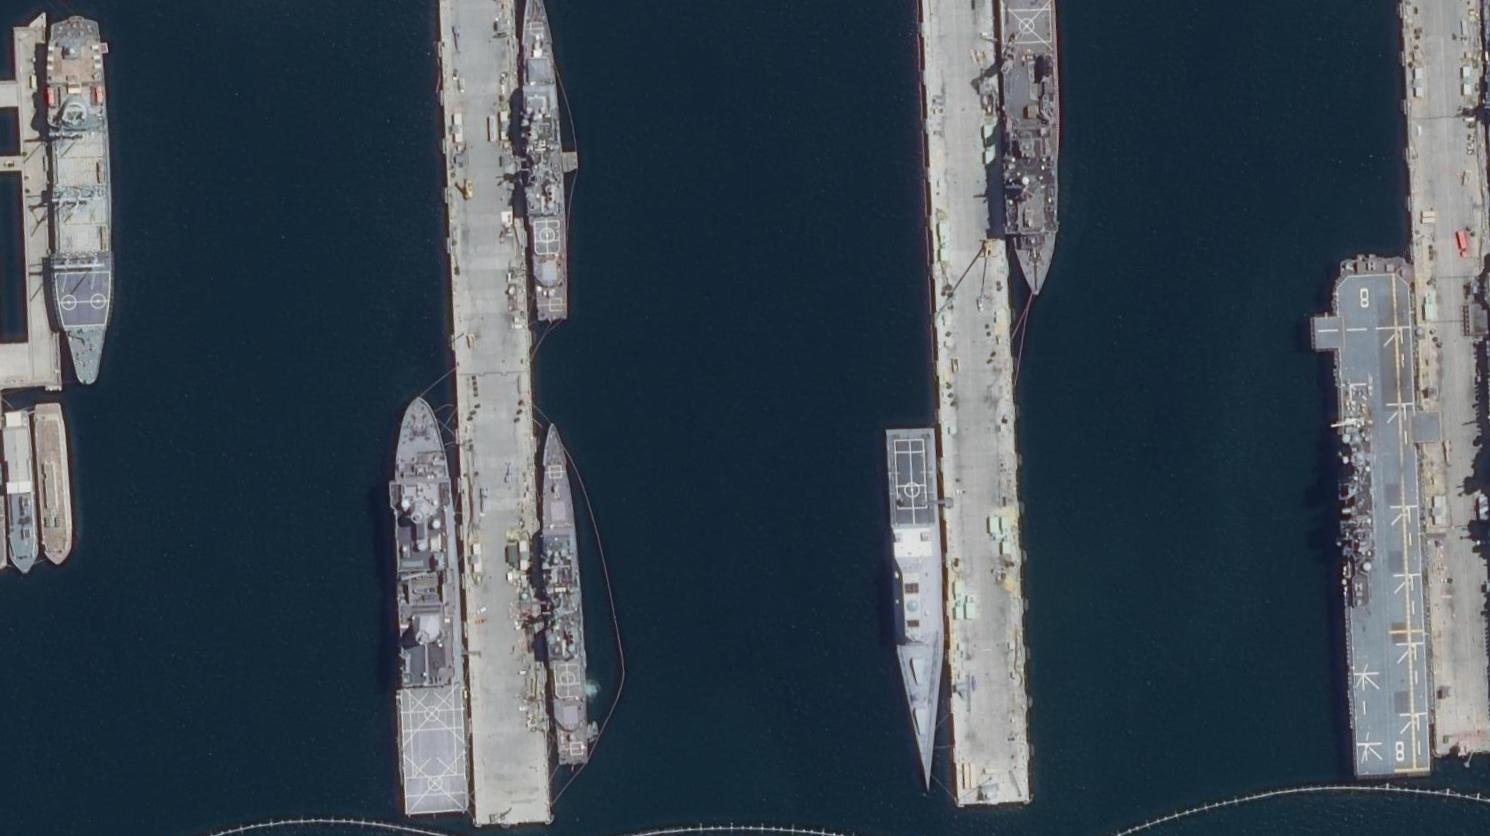amphiby: (381, 373, 484, 819)
cruiser: (531, 414, 600, 777)
pha: (1298, 239, 1453, 787)
supply: (44, 9, 114, 391)
